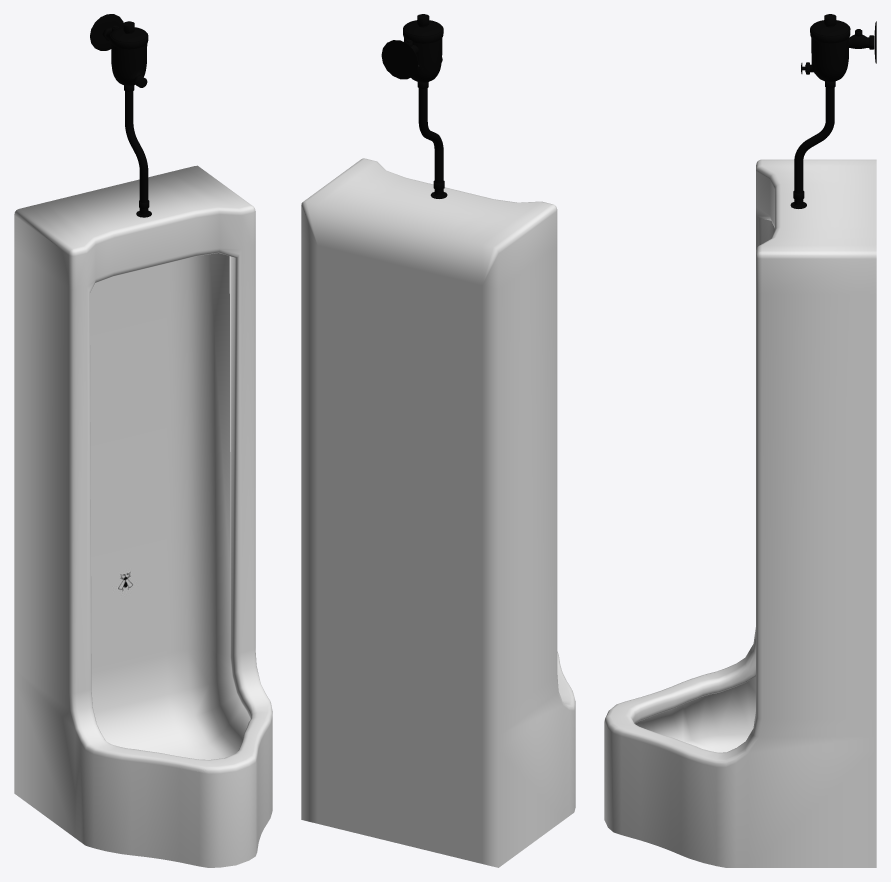
Rendered from prop_urinal.glb.
3 renders of one model, left to right at view 1: azimuth 30°, elevation 25°; view 2: azimuth 150°, elevation 25°; view 3: azimuth 270°, elevation 25°, orthographic. The views are drawn at different scales.
Parts seen in each view (by area): view 1: Object001_01 - Default_0; view 2: Object001_01 - Default_0; view 3: Object001_01 - Default_0.
Boxes of the visible parts, x1,y1,x2,y2 form: Object001_01 - Default_0: (14,14,272,867); Object001_01 - Default_0: (301,14,575,867); Object001_01 - Default_0: (604,14,876,867).
Bounding box in the file's own units: 30 × 118 × 36.11.
Materials: 1 (1 with a texture image).
